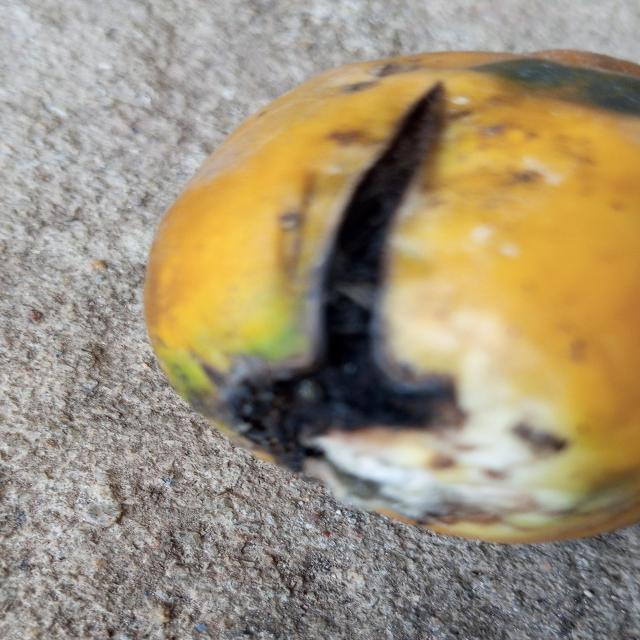damaged: (143, 51, 640, 547)
